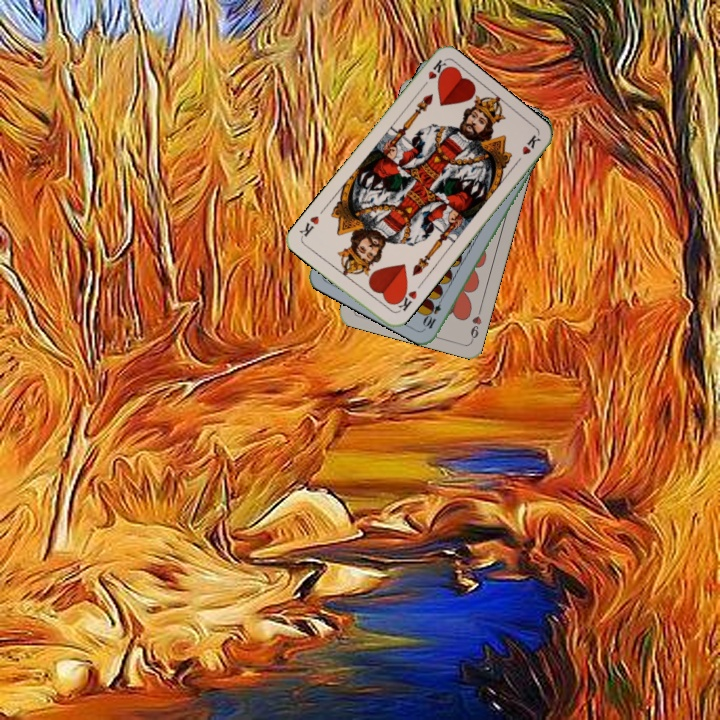E10: (420, 292, 446, 331)
H9: (466, 303, 484, 343)
HK: (416, 56, 451, 92), (390, 284, 419, 315)
